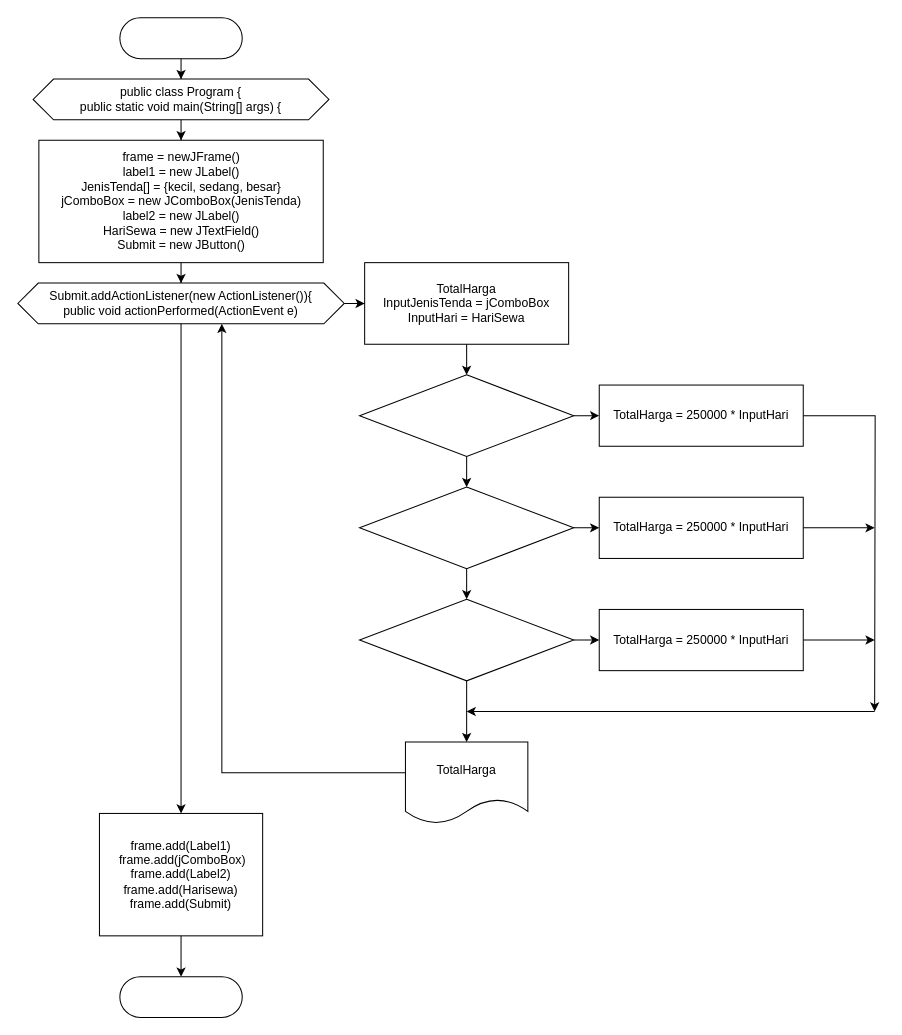
The diagram is 902 pixels wide and 1035 high, and some of its shapes have lost their labels. Each missing label, with the centre of its shape:
"End" goes at (180,996).
"InputJenisTenda == besar" goes at (466,639).
"InputJenisTenda == kecil" goes at (466,415).
"InputJenisTenda == sedang" goes at (466,527).
"start" goes at (180,38).
